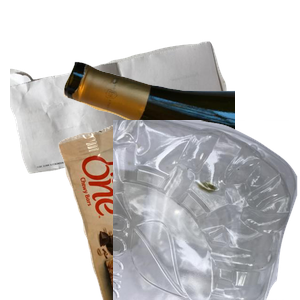glass: (60, 59, 300, 231)
paper: (10, 39, 236, 205)
plastic: (113, 120, 300, 300)
trash: (56, 120, 229, 300)
